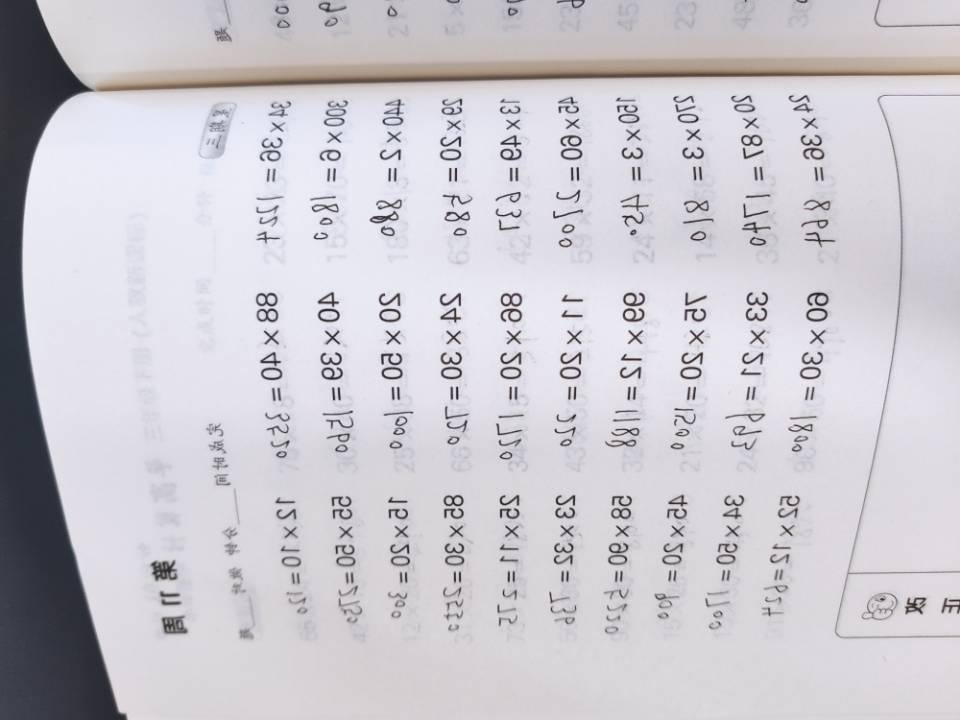equation: (477, 287, 540, 468), (236, 91, 301, 259), (370, 480, 435, 648), (314, 479, 379, 647), (255, 473, 320, 641), (236, 293, 301, 461), (533, 471, 598, 639), (482, 476, 547, 644), (425, 480, 490, 648), (365, 284, 430, 452), (299, 293, 364, 461), (599, 90, 664, 258), (539, 88, 604, 256), (476, 89, 541, 257), (422, 91, 487, 259), (356, 90, 421, 258), (297, 93, 362, 261), (535, 286, 600, 454), (586, 477, 651, 645), (641, 475, 706, 643), (696, 478, 761, 646), (753, 475, 818, 643), (778, 292, 843, 460), (594, 288, 659, 456), (716, 288, 781, 456), (655, 287, 720, 455), (663, 90, 728, 258), (421, 287, 486, 455), (778, 87, 843, 255), (718, 92, 783, 260)
